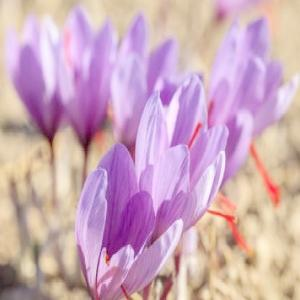Saffron: (77, 142, 180, 298), (138, 80, 222, 240), (66, 3, 122, 154), (8, 14, 70, 149)
